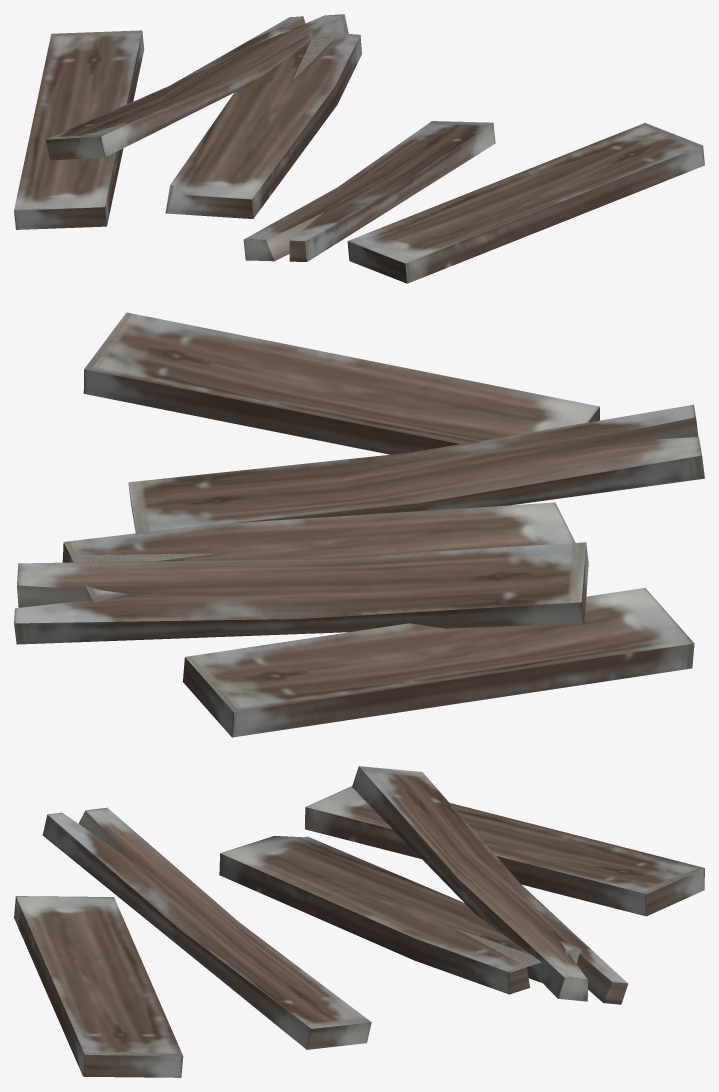
Rendered from snow_a_n04b.fbx.
3 views of the same model, one above another, from view 1: azimuth 30°, elevation 25°; view 2: azimuth 150°, elevation 25°; view 3: azimuth 270°, elevation 25° (orthographic). The views are drawn at different scales.
Visible parts, largest first — view 1: snow_a_n04b; view 2: snow_a_n04b; view 3: snow_a_n04b.
Boxes of the visible parts, x1,y1,x2,y2 form: snow_a_n04b: (14, 14, 704, 283); snow_a_n04b: (14, 312, 704, 737); snow_a_n04b: (14, 766, 704, 1077).
Bounding box in the file's own units: 283 × 43.33 × 277.
